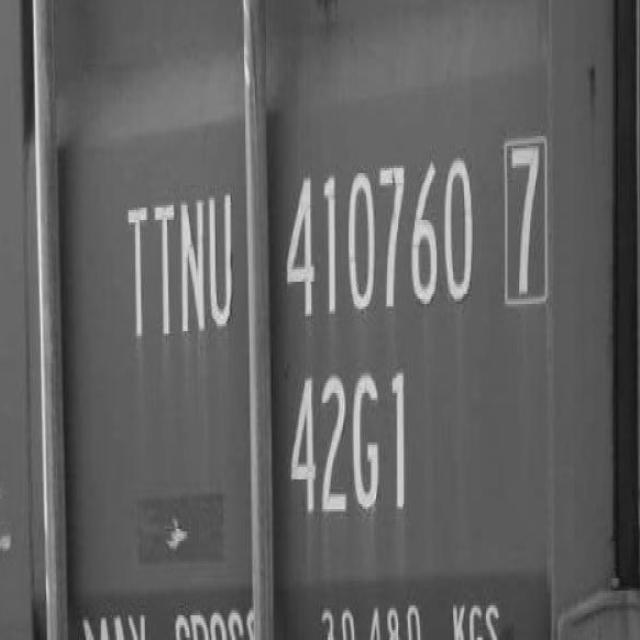dv: (498, 109, 553, 315)
owner: (121, 171, 240, 342)
serial: (281, 128, 481, 340)
size: (284, 358, 416, 544)
